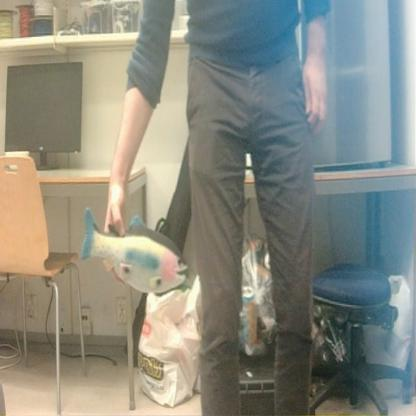rubberfish: (80, 201, 188, 297)
